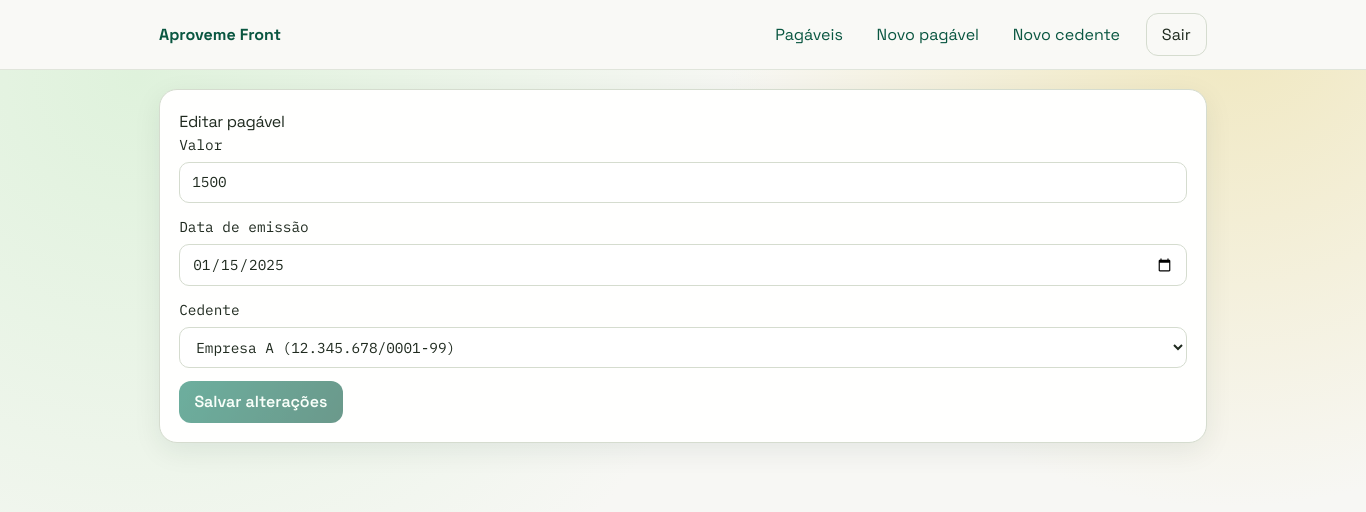
Test: EditPayablePage › shows validation error when value is cleared
Clear the field showing "1500" at {"x": 683, "y": 182}, box [179,162,1187,203]
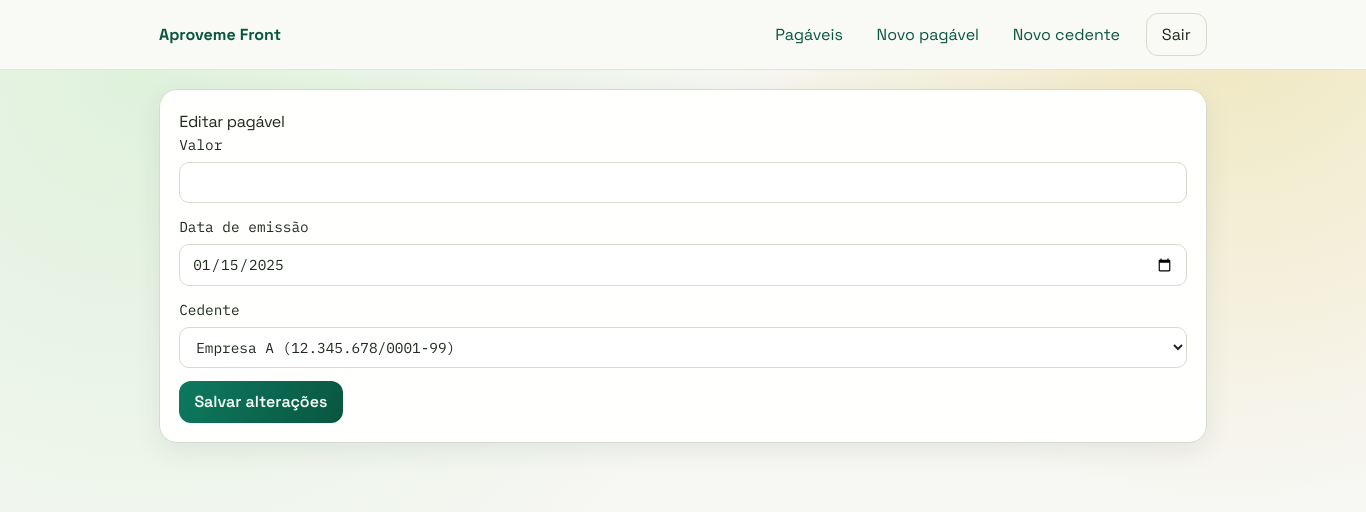
Click the button "Salvar alterações" at {"x": 261, "y": 402}, box [179,381,343,423]
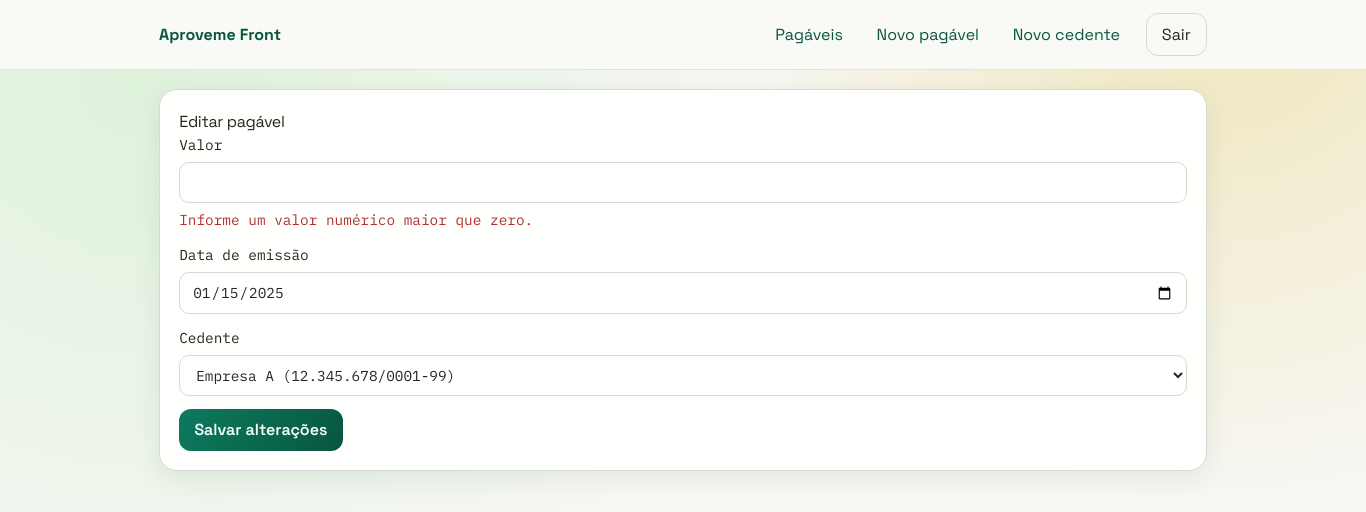
Expected: the text "Informe um valor numérico maior que zero." is shown, [179,210,533,229]
